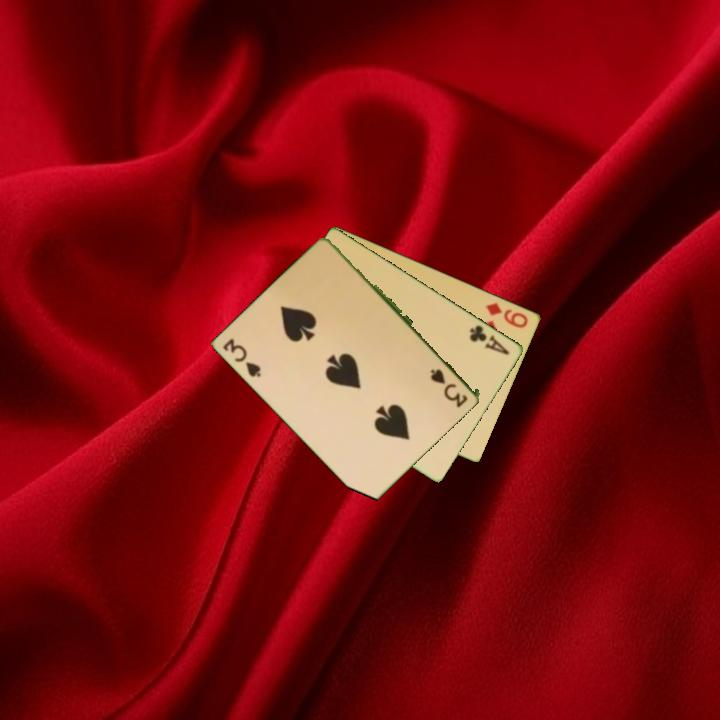3s: (219, 335, 265, 380), (427, 365, 471, 408)
9d: (483, 299, 531, 331)
Ac: (466, 321, 512, 358)
